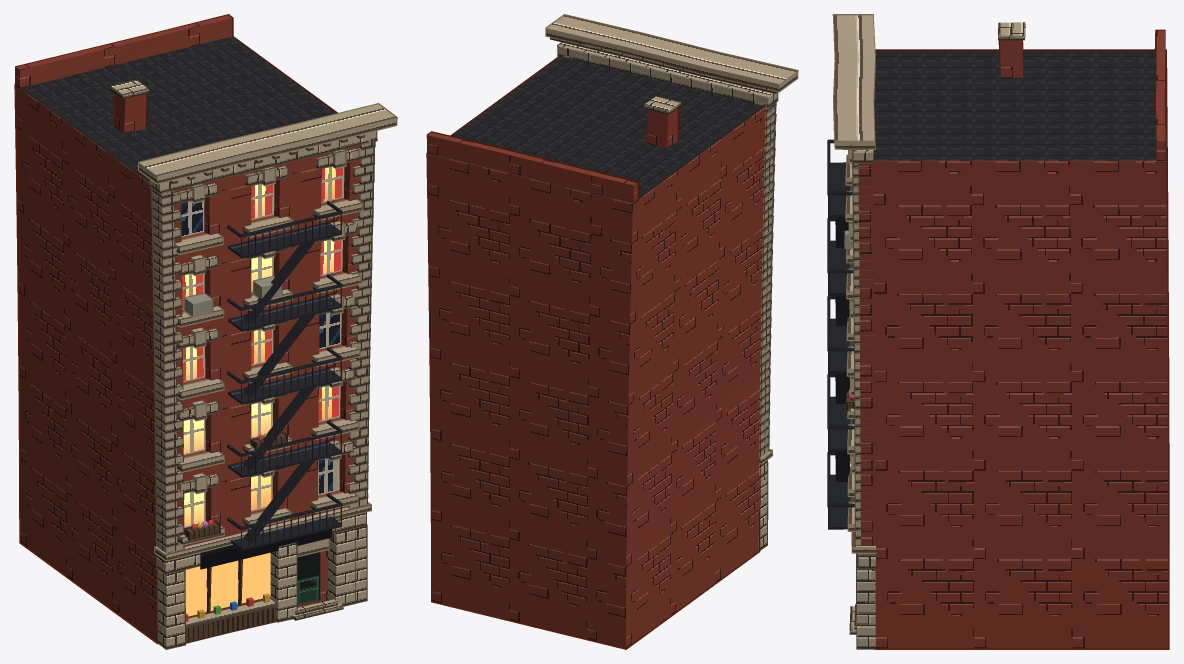
Rendered from Haus_arcade_3.glb.
The picture shows the model from 3 angles, left to right: view 1: azimuth 30°, elevation 25°; view 2: azimuth 150°, elevation 25°; view 3: azimuth 270°, elevation 25°; orthographic projection. The views are drawn at different scales.
Visible parts, largest first — view 1: Haus_arcade_3; view 2: Haus_arcade_3; view 3: Haus_arcade_3.
Part boxes in pixels (box(x1,y1,x2,y2)): Haus_arcade_3: box(14, 14, 397, 649); Haus_arcade_3: box(426, 14, 798, 649); Haus_arcade_3: box(827, 14, 1169, 649).
Bounding box in the file's own units: 12.1 × 24.01 × 13.92.
Materials: 25 (10 with a texture image).
